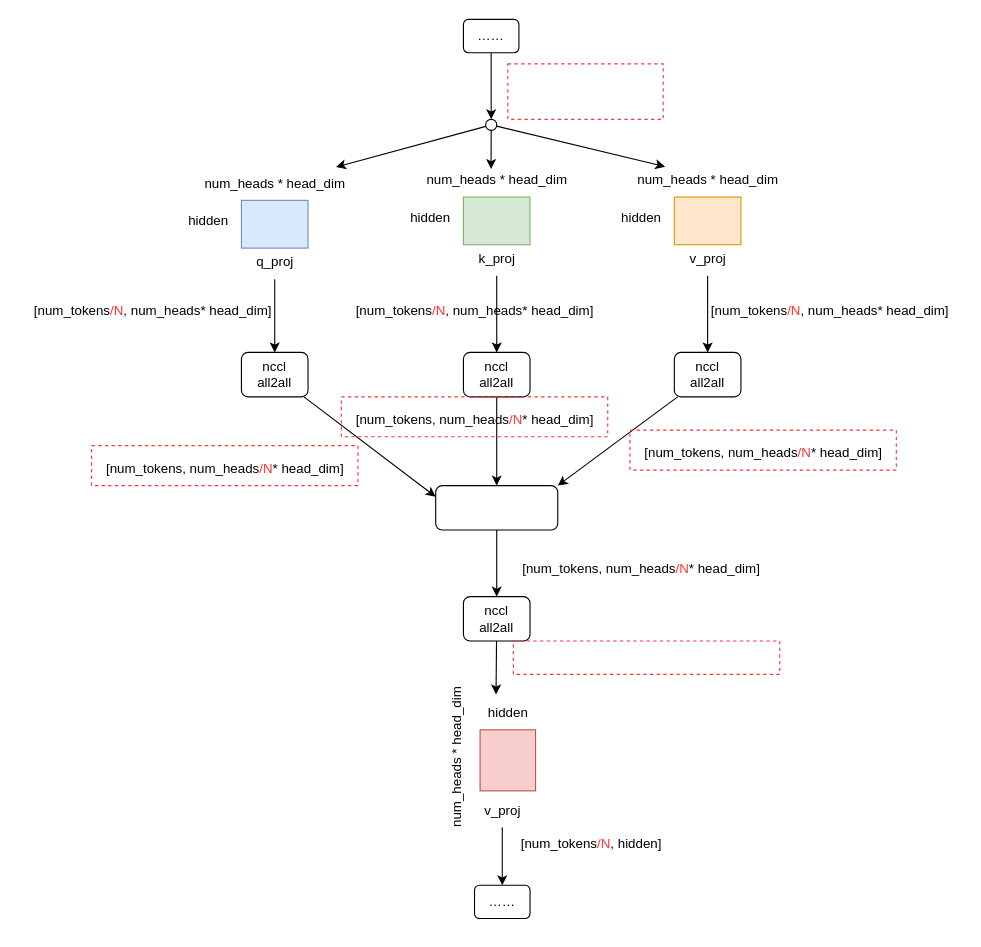
Some shapes in this 981 by 947 pixel diagram are drawn without their labels. Here are the shapes that lost their labels. From the top down, the centre of each, then its label:
point (585, 91): [num_tokens / N , hidden]
point (496, 507): flash attention
point (646, 657): [num_tokens /N , num_heads * head_dim]
